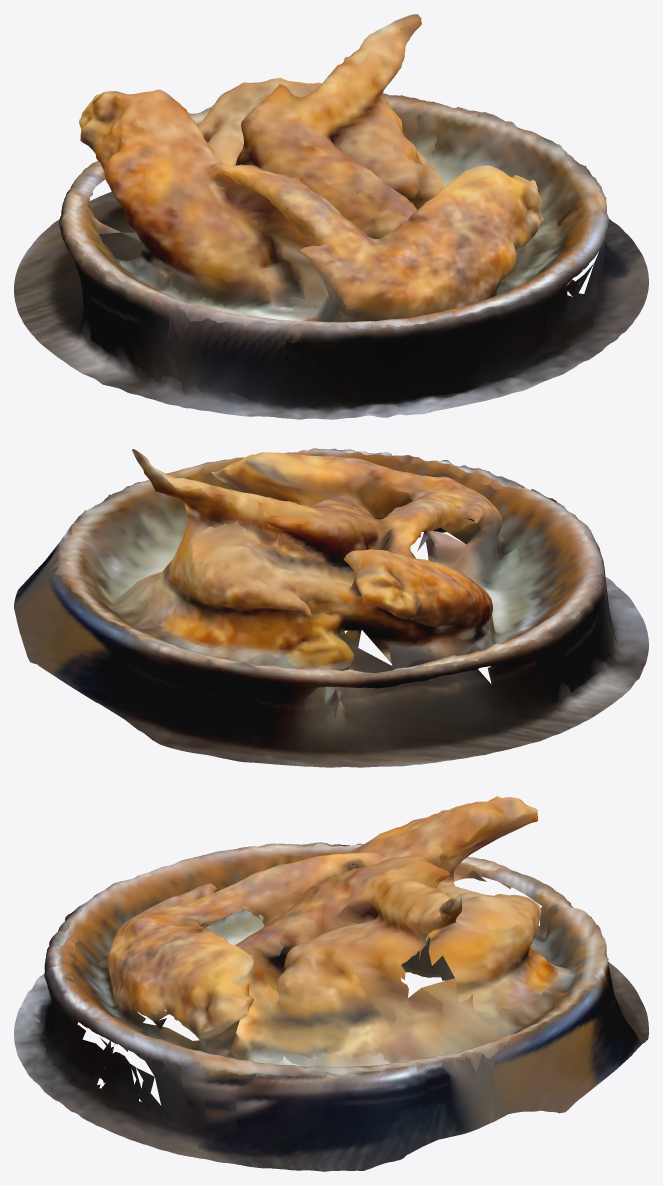
Rendered from fried_chicken_wings_01.glb.
3 renders of one model, top to bottom at view 1: azimuth 30°, elevation 25°; view 2: azimuth 150°, elevation 25°; view 3: azimuth 270°, elevation 25°, orthographic. The views are drawn at different scales.
Visible parts, largest first — view 1: Object_2; view 2: Object_2; view 3: Object_2.
Part boxes in pixels (x1,y1,x2,y2): Object_2: (14,14,648,419); Object_2: (14,448,648,767); Object_2: (14,796,648,1171).
Size of the model in its own units: 0.1781 by 0.0615 by 0.1717.
Materials: 1 (1 with a texture image).
